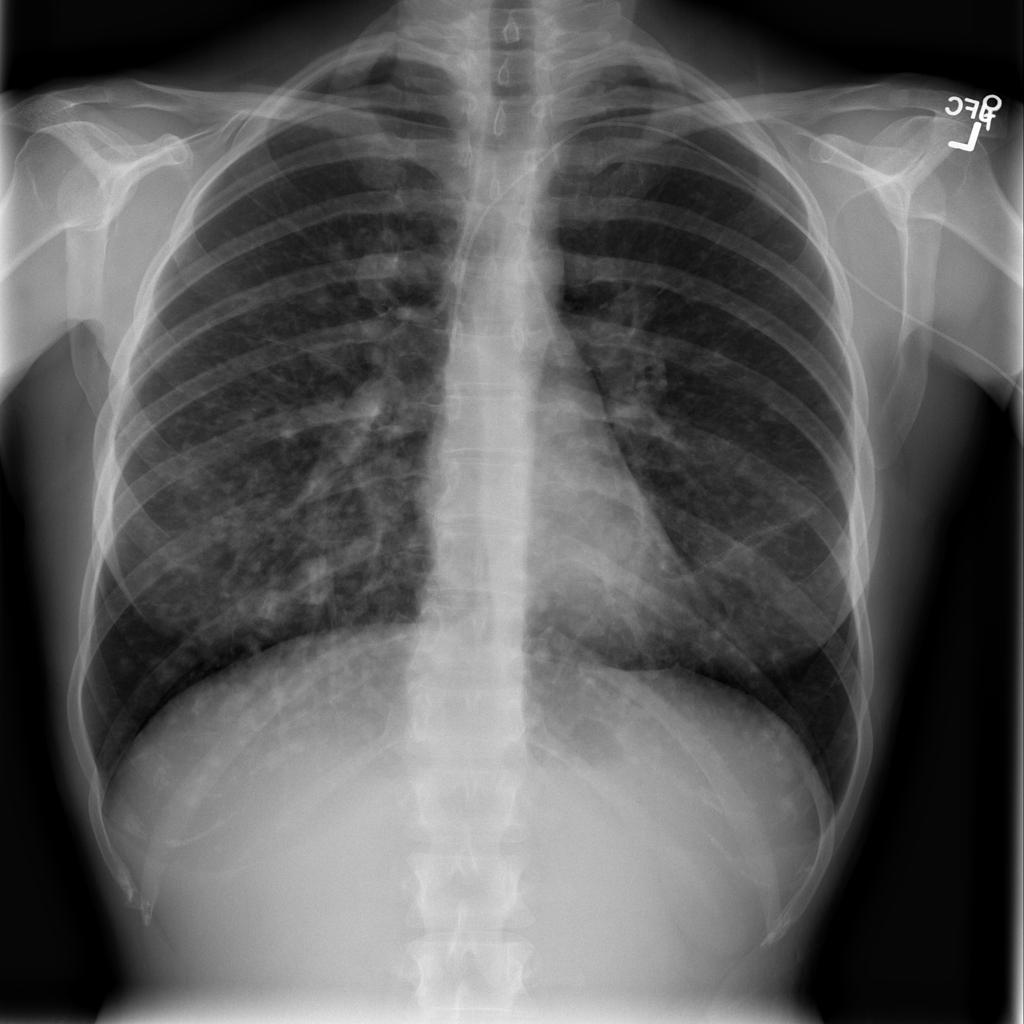nodule: (333, 213, 447, 320), (278, 543, 352, 619)
